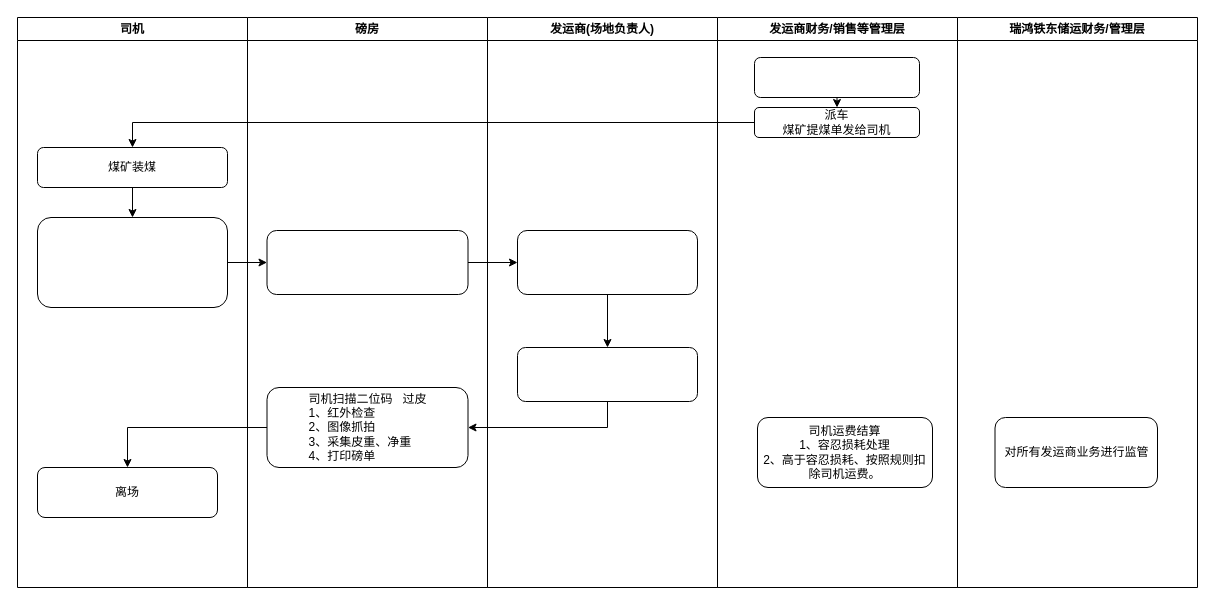
The diagram is 1215 pixels wide and 605 high, and some of its shapes have lost their labels. Here are the shapes that lost their labels. From the top down, the centre of each, then its label:
At [837,77]: "签订采购合同 输入煤种单价、运费单价、付款单".
At [132,262]: "过重磅后 1、将发运商、煤矿、煤种、矿吨、离矿时间填写至APP。 2、将煤矿磅单上传至APP。 3、APP生成二维码".
At [367,262]: "司机扫描二位码 过毛 1、红外检查 2、图像抓拍 3、采集毛重重量".
At [607,262]: "场地负责人扫描司机二维码 确认发运商、煤矿、煤种、矿吨、毛重信息是否正确,不正确场地负责修改".
At [607,374]: "卸煤".
